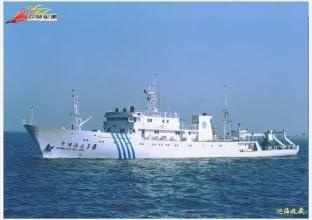warship: (15, 79, 298, 159)
